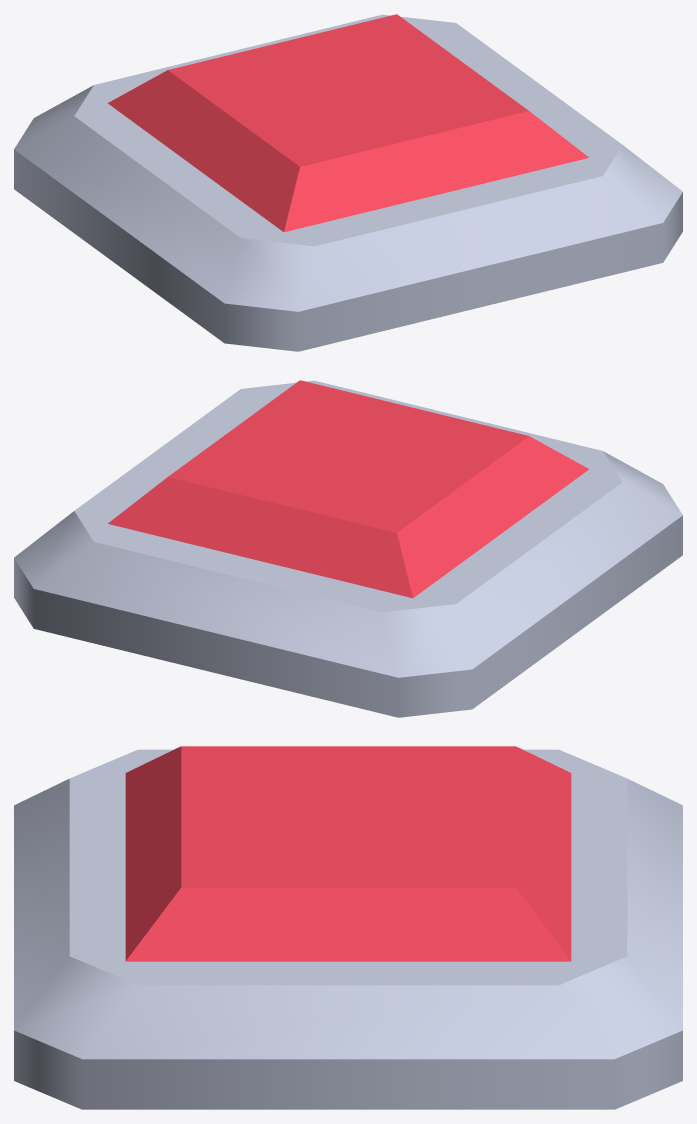
File: buttonSquare.fbx
3 renders of one model, top to bottom at view 1: azimuth 30°, elevation 25°; view 2: azimuth 150°, elevation 25°; view 3: azimuth 270°, elevation 25°, orthographic. The views are drawn at different scales.
Parts seen in each view (by area): view 1: buttonSquare, knob; view 2: buttonSquare, knob; view 3: buttonSquare, knob.
Boxes of the visible parts, left/top/right/bottom form: buttonSquare: left=14, top=14, right=682, bottom=351; knob: left=108, top=14, right=588, bottom=232; buttonSquare: left=14, top=380, right=682, bottom=717; knob: left=108, top=380, right=588, bottom=598; buttonSquare: left=14, top=749, right=682, bottom=1109; knob: left=125, top=746, right=571, bottom=961.
Bounding box in the file's own units: 6 × 1.5 × 6.
